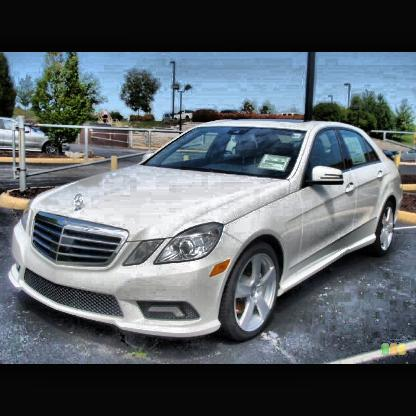Mercedes-Benz E-Class Sedan 2012: (7, 117, 400, 340)
